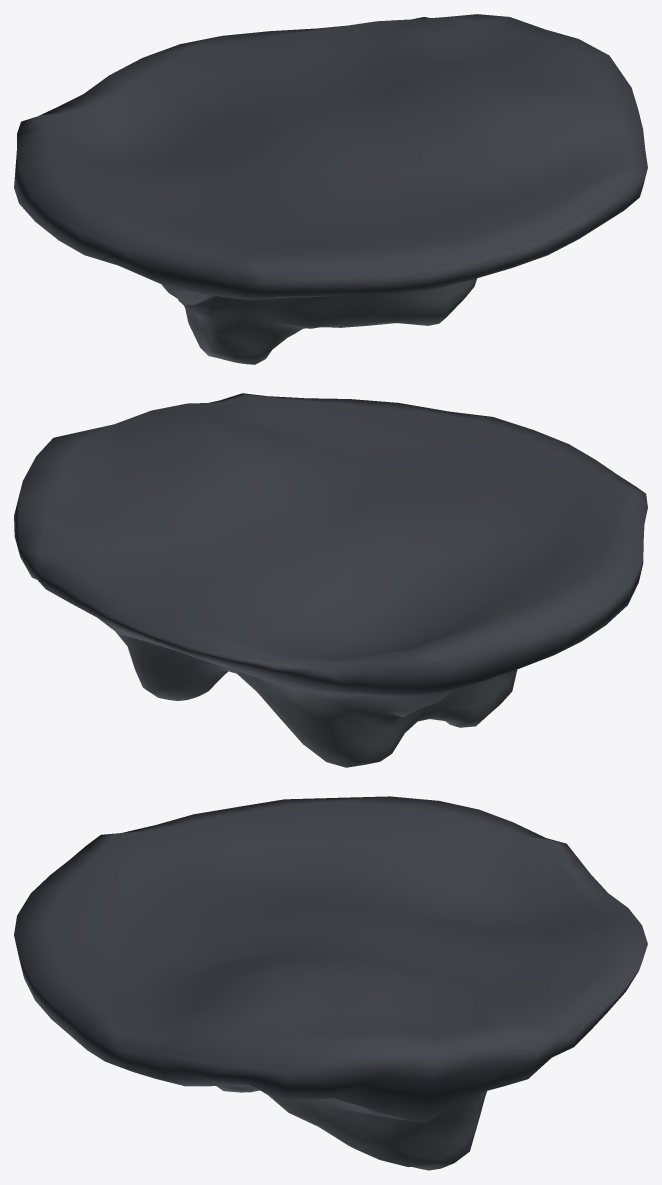
Rendered from willowrockbase.fbx.
3 views of the same model, one above another, from view 1: azimuth 30°, elevation 25°; view 2: azimuth 150°, elevation 25°; view 3: azimuth 270°, elevation 25° (orthographic). The views are drawn at different scales.
Parts seen in each view (by area): view 1: WillowRockBase; view 2: WillowRockBase; view 3: WillowRockBase.
Boxes of the visible parts, <box> form: WillowRockBase: <box>14,14,647,364</box>; WillowRockBase: <box>14,393,647,767</box>; WillowRockBase: <box>14,796,647,1170</box>.
Bounding box in the file's own units: 631 × 228 × 591.
1 material, 1 textured.
